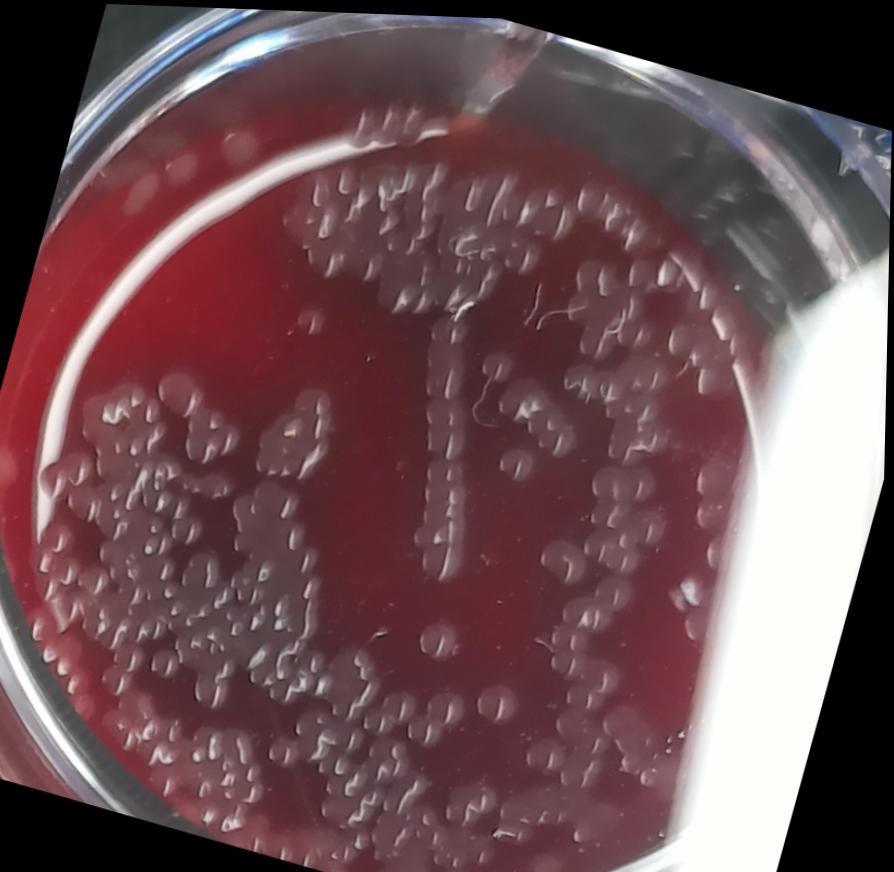vangil: (394, 446, 492, 586), (248, 367, 351, 491), (223, 471, 338, 573), (490, 367, 593, 457), (582, 449, 660, 532), (373, 238, 448, 324), (414, 310, 481, 399), (566, 643, 634, 716), (177, 398, 246, 469), (406, 679, 471, 753), (36, 439, 102, 510), (416, 389, 477, 461), (363, 676, 425, 741), (581, 517, 650, 571), (149, 363, 213, 421), (191, 648, 243, 714), (472, 669, 528, 726), (537, 529, 595, 584), (554, 585, 621, 632), (415, 609, 470, 664), (179, 540, 230, 595), (178, 459, 240, 503), (502, 225, 552, 273), (495, 436, 543, 482), (525, 727, 571, 772), (594, 565, 640, 609), (477, 336, 521, 381), (549, 636, 591, 682), (147, 640, 189, 681), (267, 729, 308, 770), (112, 634, 151, 674), (169, 508, 207, 548)
